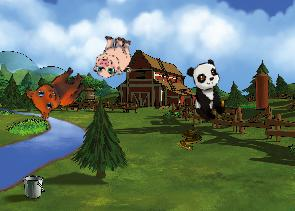bear: (21, 55, 90, 125)
panda: (184, 58, 230, 124)
pig: (91, 33, 135, 80)
